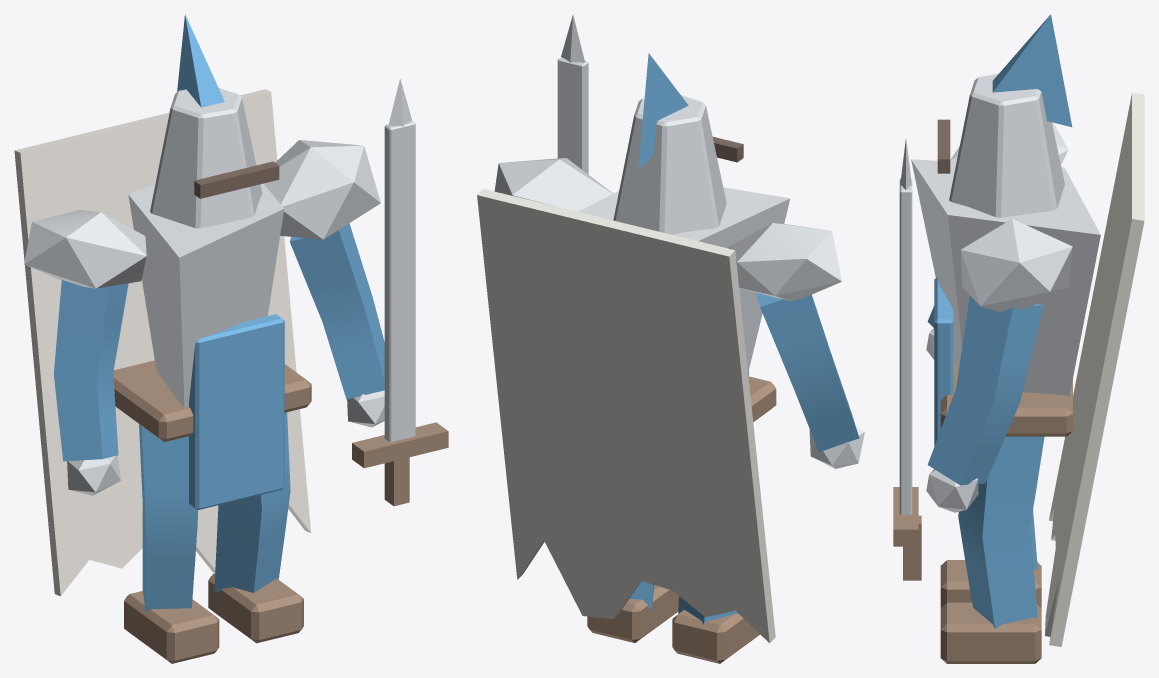
The model's file is PL_Player_C.fbx.
The picture shows the model from 3 angles, left to right: view 1: azimuth 30°, elevation 25°; view 2: azimuth 150°, elevation 25°; view 3: azimuth 270°, elevation 25°; orthographic projection. The views are drawn at different scales.
Parts seen in each view (by area): view 1: PL_Player_C; view 2: PL_Player_C; view 3: PL_Player_C.
Boxes of the visible parts, box(x1,y1,x2,y2) form: PL_Player_C: box(14, 14, 448, 663); PL_Player_C: box(477, 14, 864, 663); PL_Player_C: box(893, 14, 1144, 663).
Size of the model in its own units: 1.38 by 2.16 by 0.7969.
